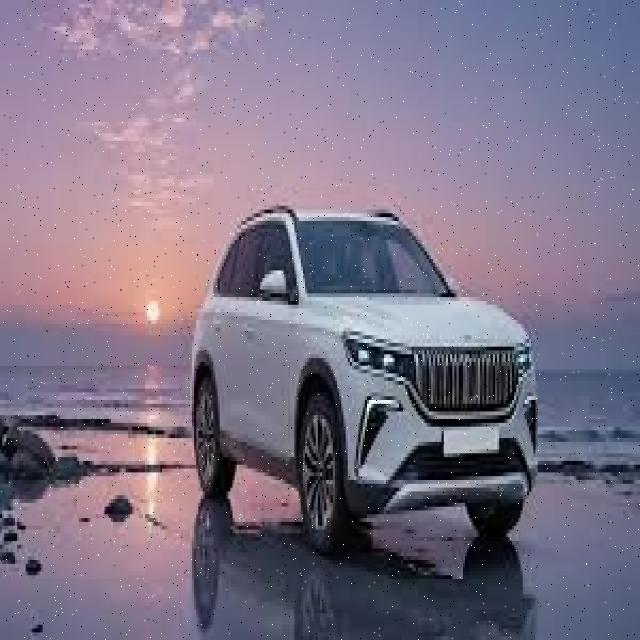car: (164, 167, 578, 595)
